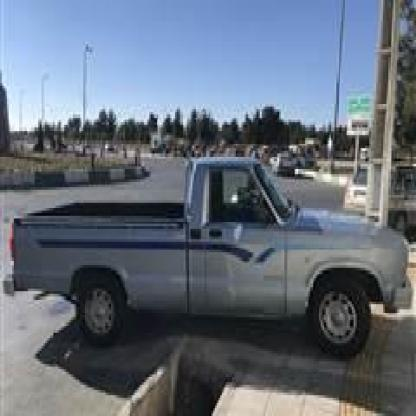Car: (0, 146, 416, 371)
